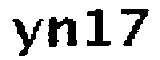1: (82, 8, 113, 48)
7: (120, 6, 151, 50)
n: (45, 12, 78, 49)
y: (9, 15, 45, 59)
